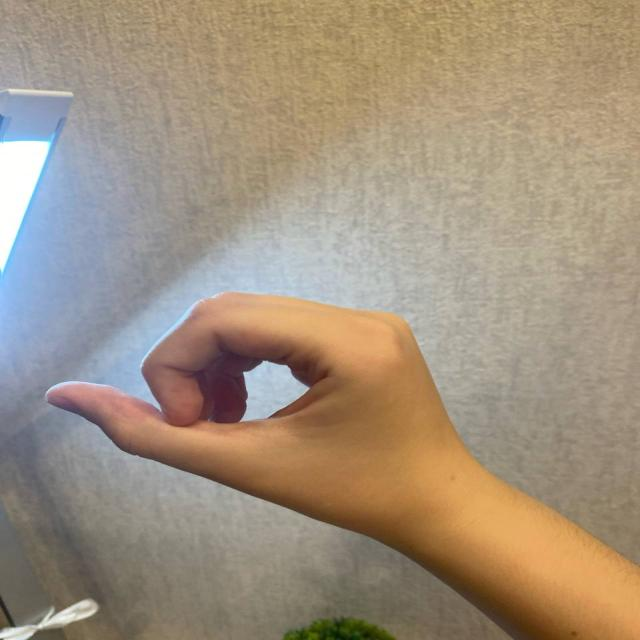e: (65, 278, 502, 508)
